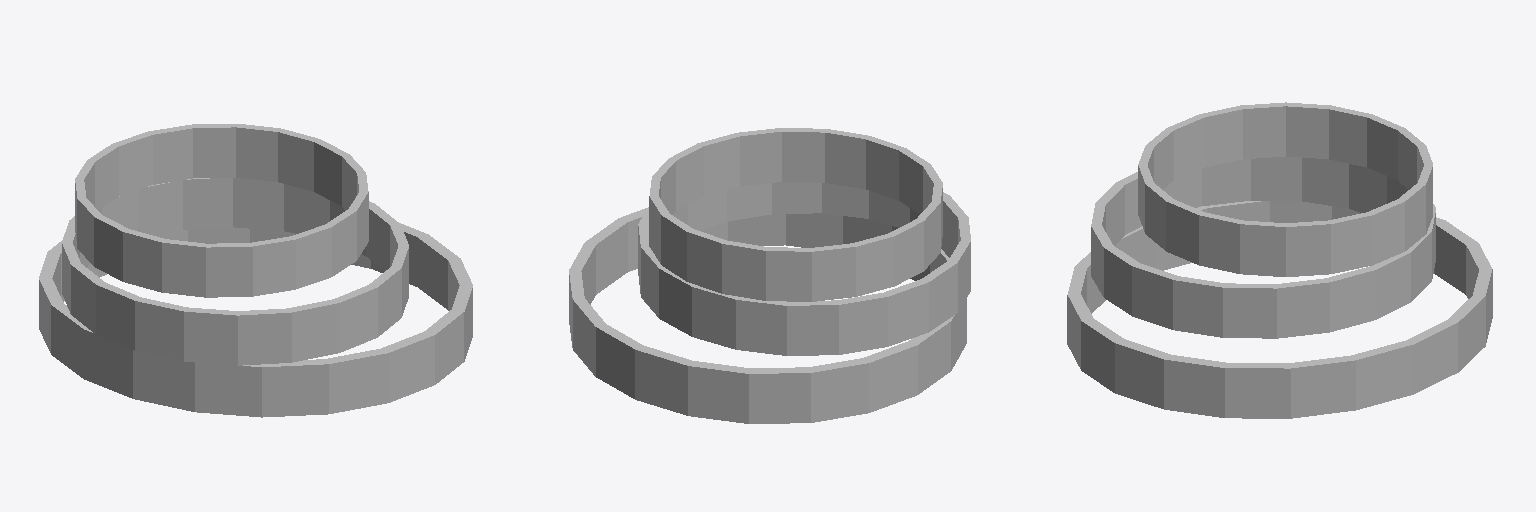
3 views of the same model, side by side, from view 1: azimuth 30°, elevation 25°; view 2: azimuth 150°, elevation 25°; view 3: azimuth 270°, elevation 25° (orthographic).
Visible parts, largest first — view 1: LH; view 2: LH; view 3: LH.
Part boxes in pixels (x1,y1,x2,y2): LH: (39, 124, 472, 417); LH: (569, 128, 970, 423); LH: (1067, 102, 1492, 418).
Size of the model in its own units: 22.25 by 9.08 by 23.03.